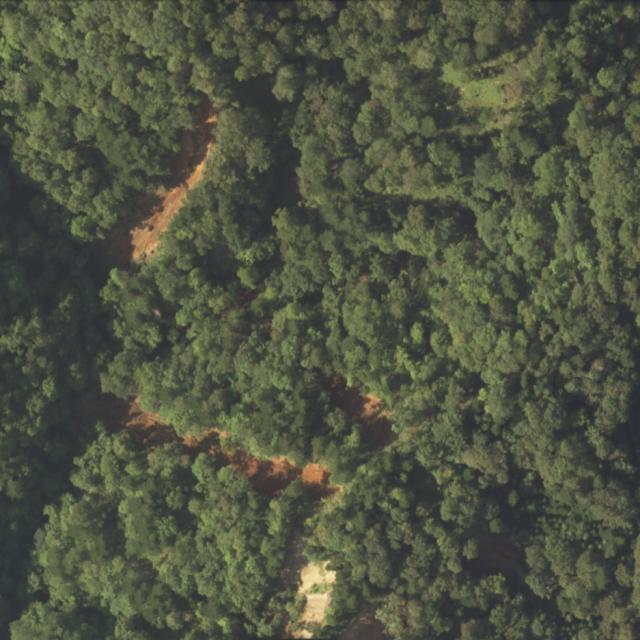landslide: (124, 404, 339, 500), (130, 141, 212, 264)
